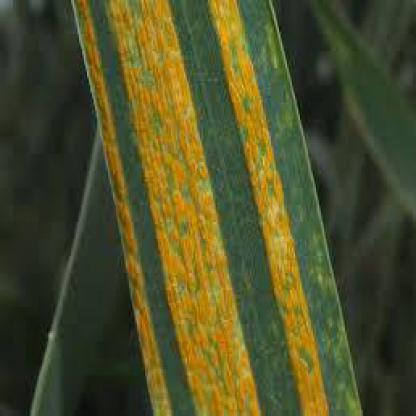Wheat-Yellow-rust: (105, 0, 270, 136), (123, 142, 291, 222), (128, 230, 302, 284), (156, 373, 346, 411), (145, 330, 325, 368), (134, 292, 323, 325), (79, 9, 102, 42), (108, 146, 119, 176), (88, 54, 102, 72)
